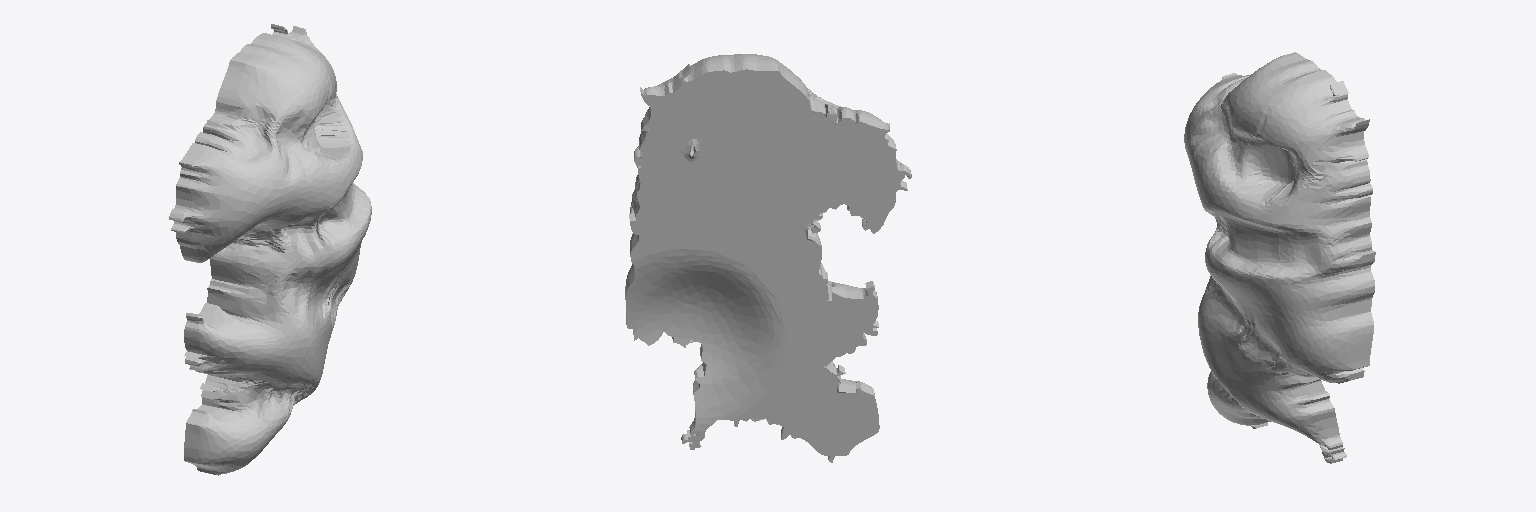
Rendered from row5.obj.
3 views of the same model, side by side, from view 1: azimuth 30°, elevation 25°; view 2: azimuth 150°, elevation 25°; view 3: azimuth 270°, elevation 25° (orthographic).
Visible parts, largest first — view 1: row_5; view 2: row_5; view 3: row_5.
Boxes of the visible parts, <box> form: row_5: <box>169,24,371,475</box>; row_5: <box>625,54,911,462</box>; row_5: <box>1184,52,1375,463</box>.
Size of the model in its own units: 1.85 by 3.04 by 1.33.